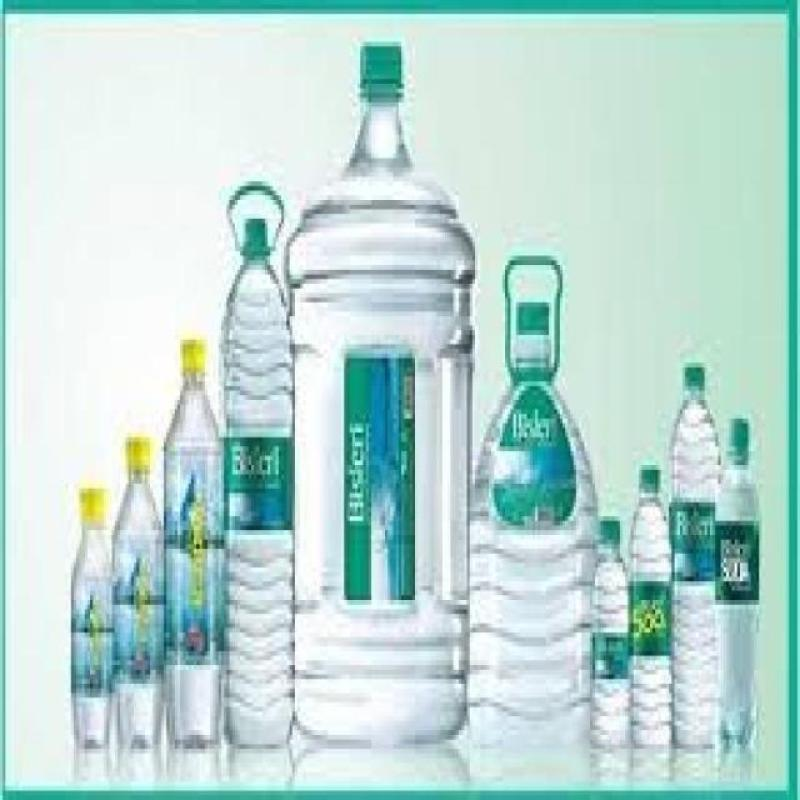botella: (224, 219, 295, 749), (162, 339, 222, 753), (672, 360, 716, 751), (110, 439, 162, 752), (717, 416, 761, 756), (630, 468, 670, 756), (72, 486, 108, 746), (590, 519, 630, 751)
